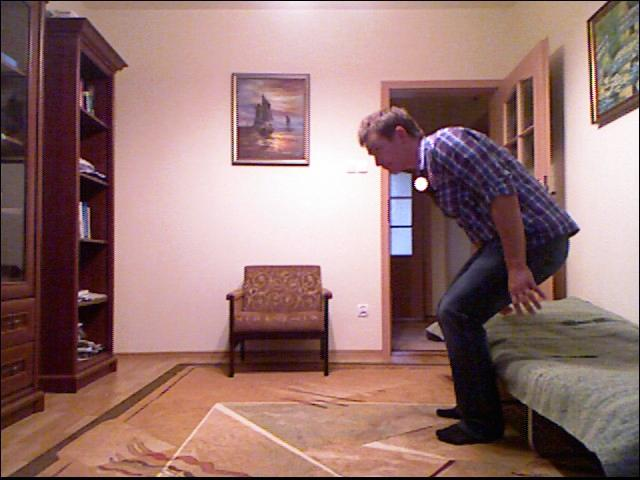sitting: (369, 14, 547, 451)
